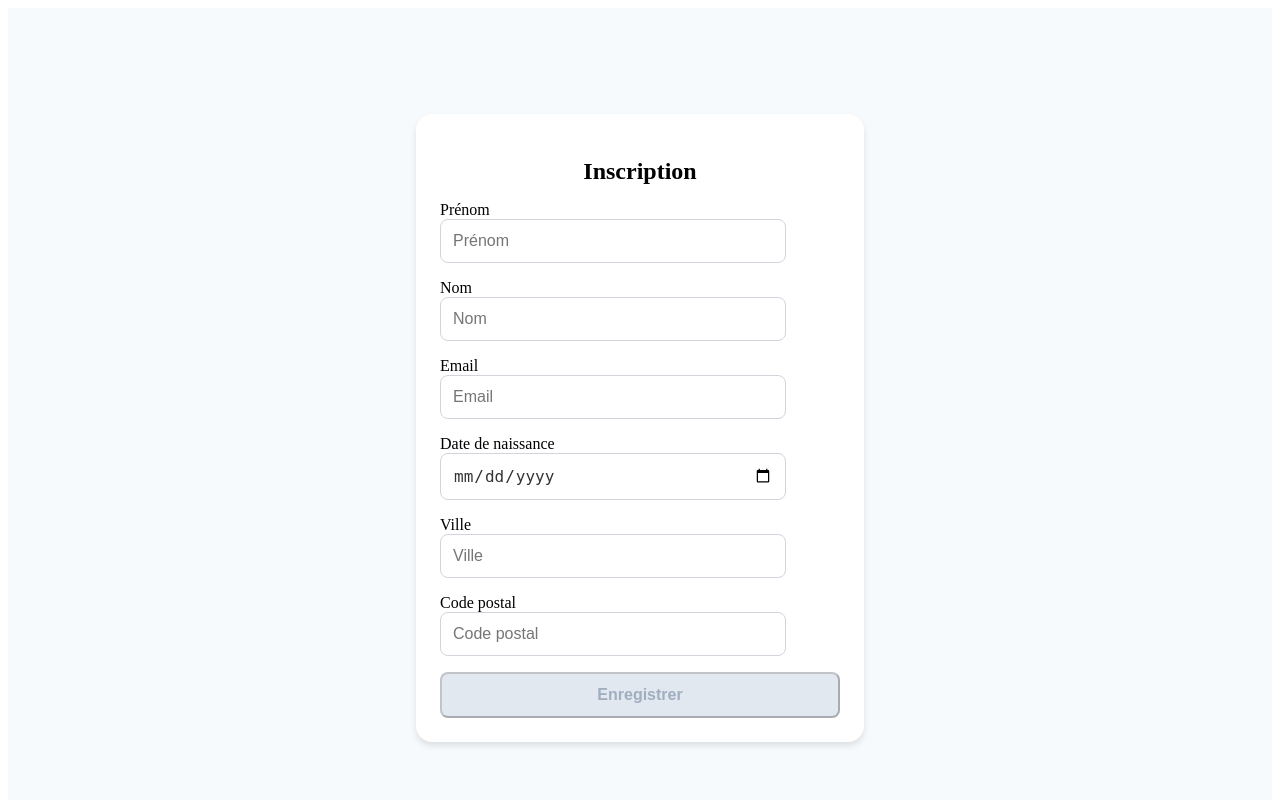
Test: ListComponent › ajouter un utilisateur via le formulaire met à jour la liste
This screenshot has width=1280, height=800.
# Remplir et soumettre le formulaire
Type "John" into the field with test id "user-firstName" at (613, 241), box [440,219,786,263]
Type "Doe" into the field with test id "user-lastName" at (613, 319), box [440,297,786,341]
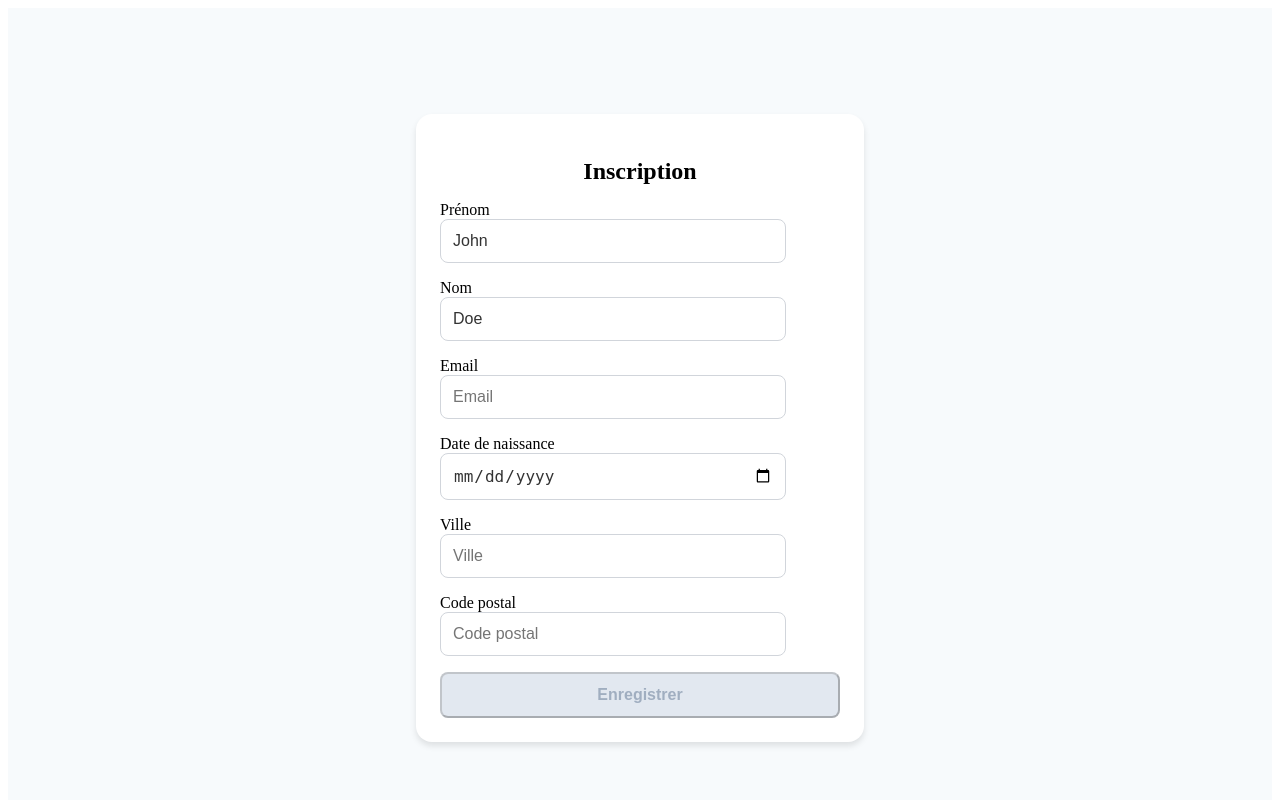
Type "john.doe@example.com" into the field with test id "user-email" at (613, 397), box [440,375,786,419]
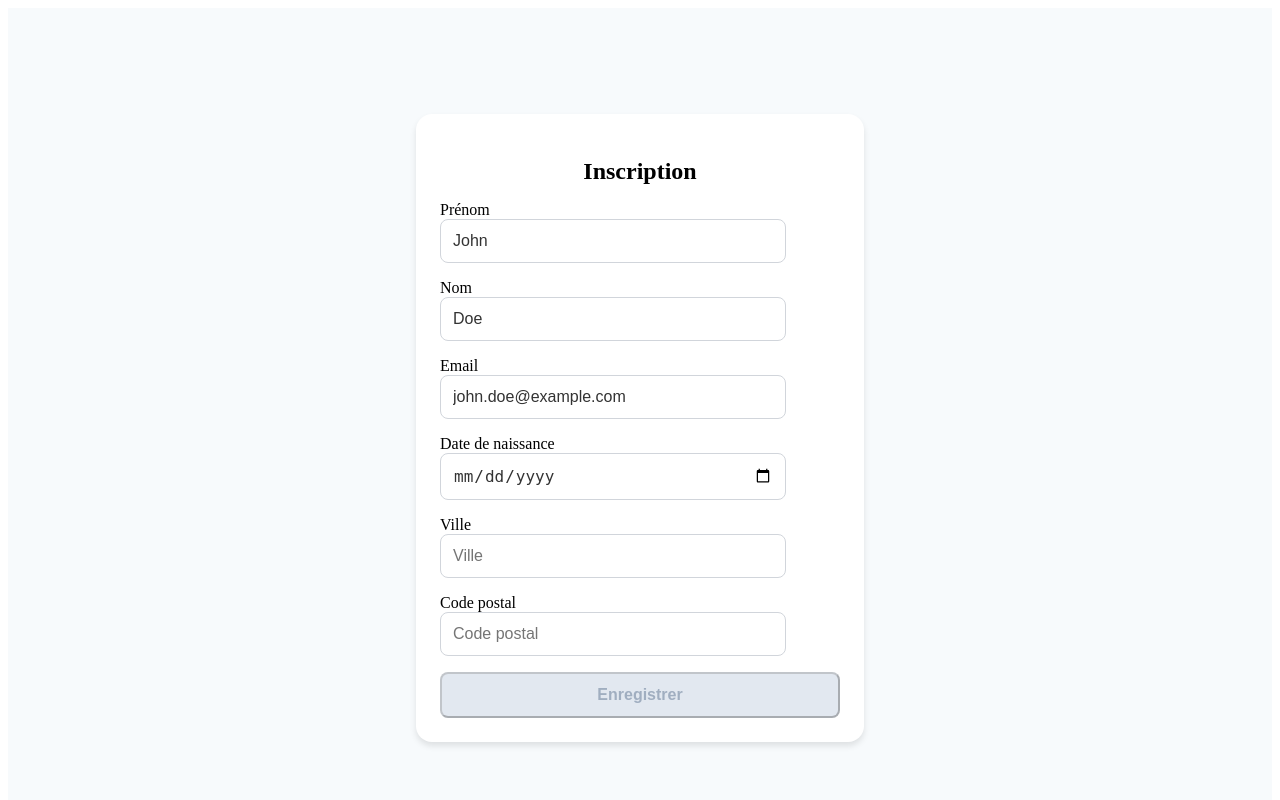
Type "1990-01-01" into the date field with test id "user-dateOfBirth" at (613, 476), box [440,453,786,500]
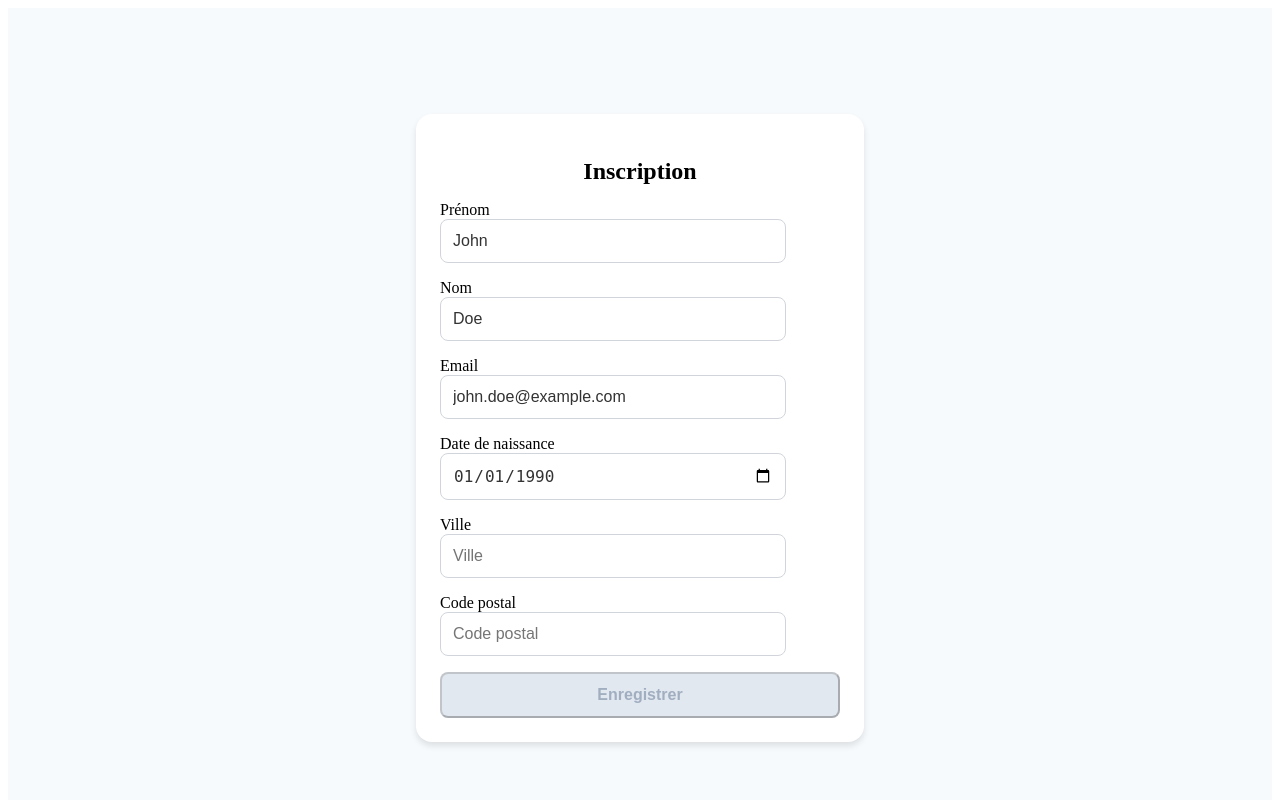
Type "Paris" into the field with test id "user-city" at (613, 556), box [440,534,786,578]
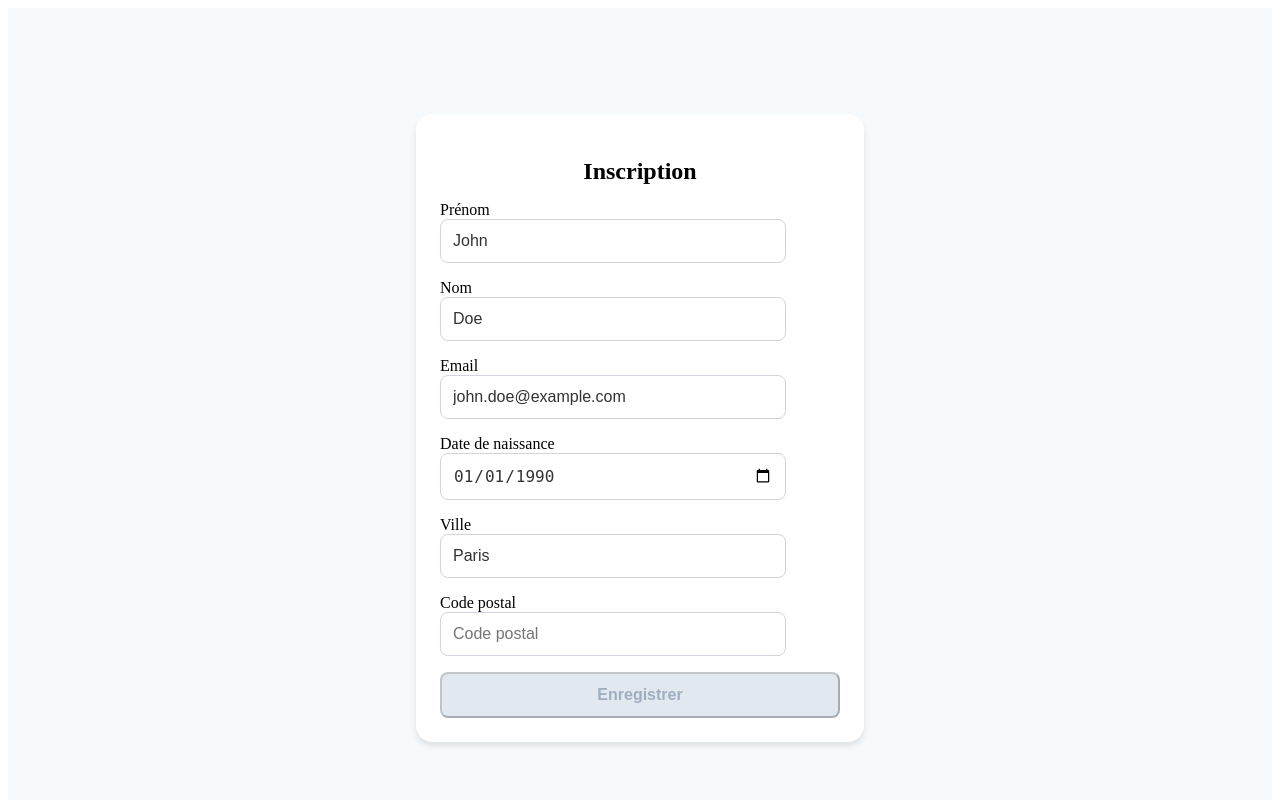
Type "75001" into the field with test id "user-postalCode" at (613, 634), box [440,612,786,656]
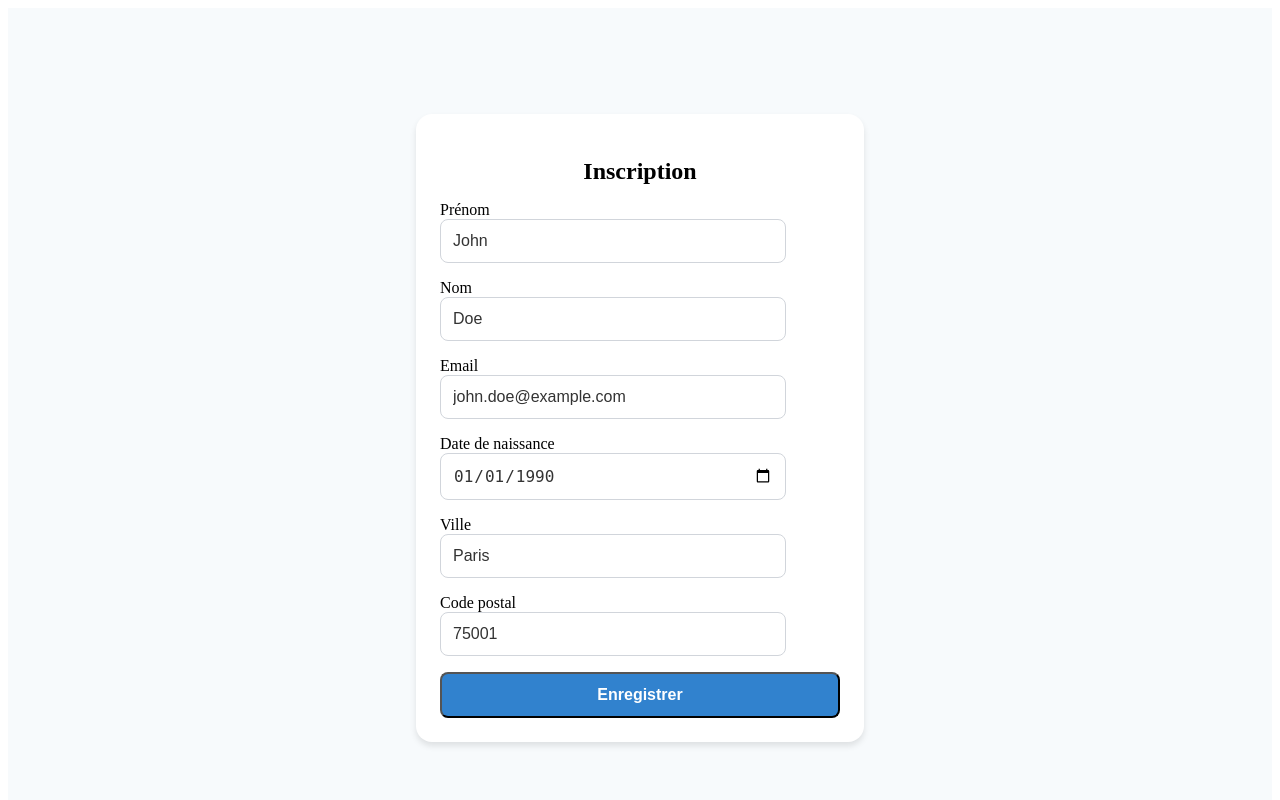
Click the button "Enregistrer" at (640, 695), box [440,672,840,718]
(page scrolled)
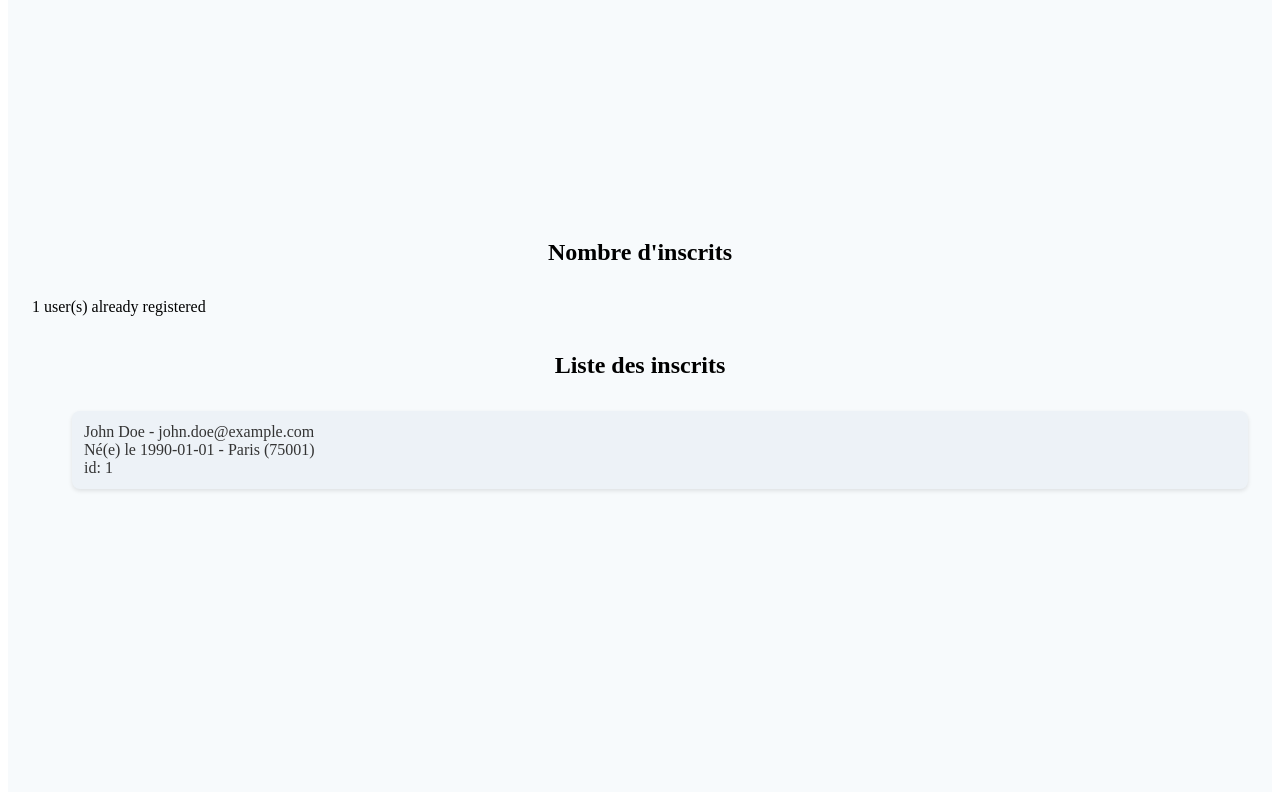
Now the text with test id "user-email-1" reads "John Doe - john.doe@example.com", box [84,423,314,440]
